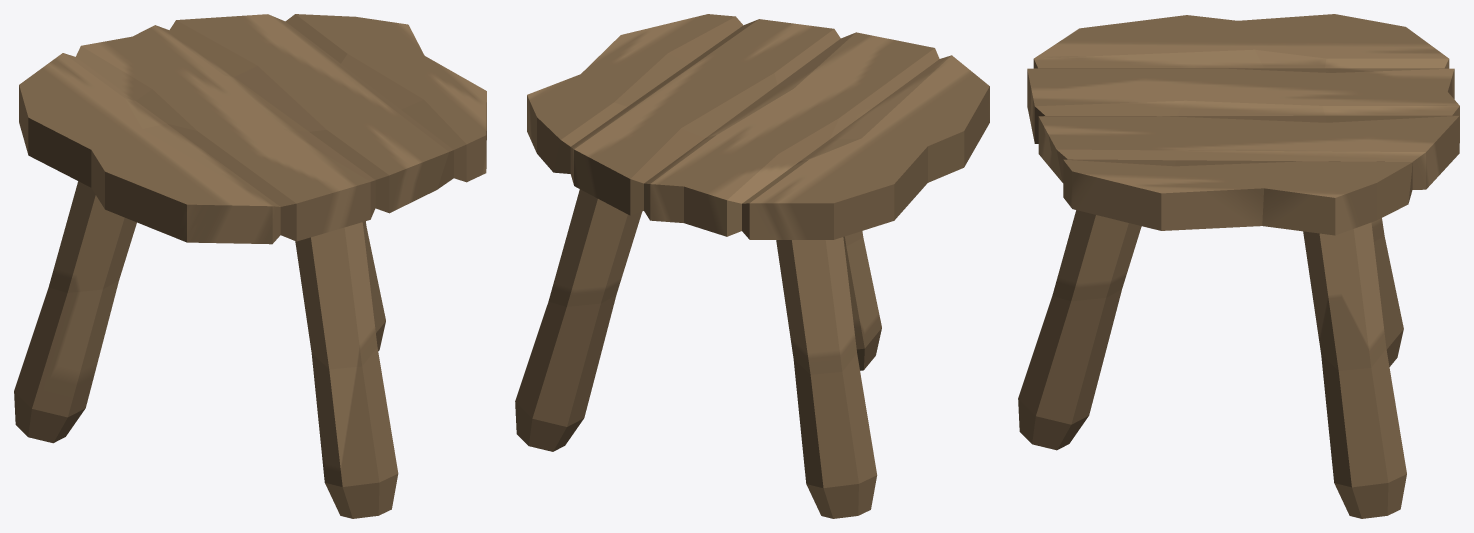
Rendered from SM_Prop_Stool_02.fbx.
3 views of the same model, side by side, from view 1: azimuth 30°, elevation 25°; view 2: azimuth 150°, elevation 25°; view 3: azimuth 270°, elevation 25° (orthographic). The views are drawn at different scales.
Visible parts, largest first — view 1: SM_Prop_Stool_02; view 2: SM_Prop_Stool_02; view 3: SM_Prop_Stool_02.
Boxes of the visible parts, bbox=[...] form: SM_Prop_Stool_02: bbox=[14, 14, 486, 518]; SM_Prop_Stool_02: bbox=[515, 14, 989, 518]; SM_Prop_Stool_02: bbox=[1018, 14, 1459, 518].
Size of the model in its own units: 55.65 by 47.61 by 56.49.
